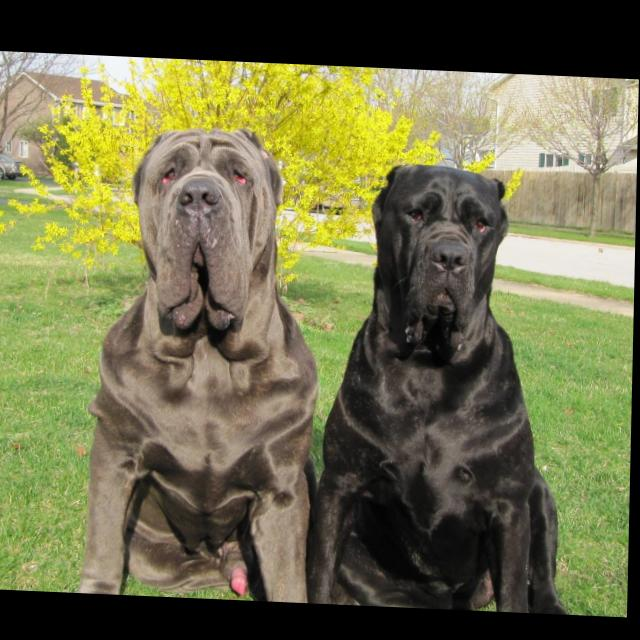mastino_napoletano: (309, 156, 636, 613), (50, 118, 333, 602)
